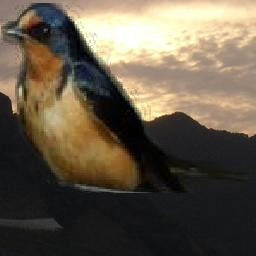Swallow: (1, 3, 255, 193)
